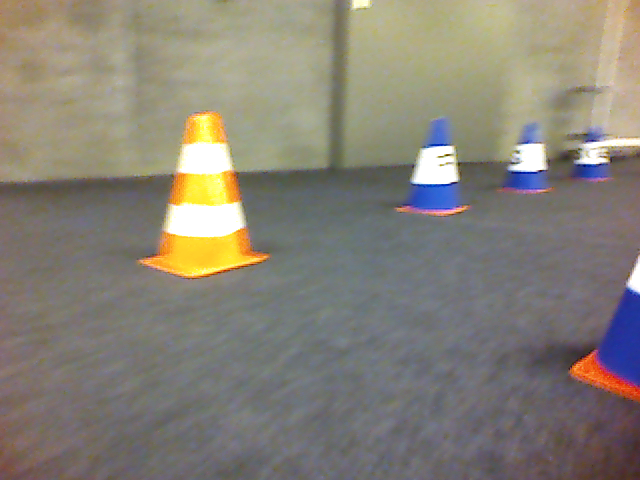bluecone: (394, 117, 472, 217), (497, 121, 557, 195)
orangeconesmall: (126, 107, 273, 281)
